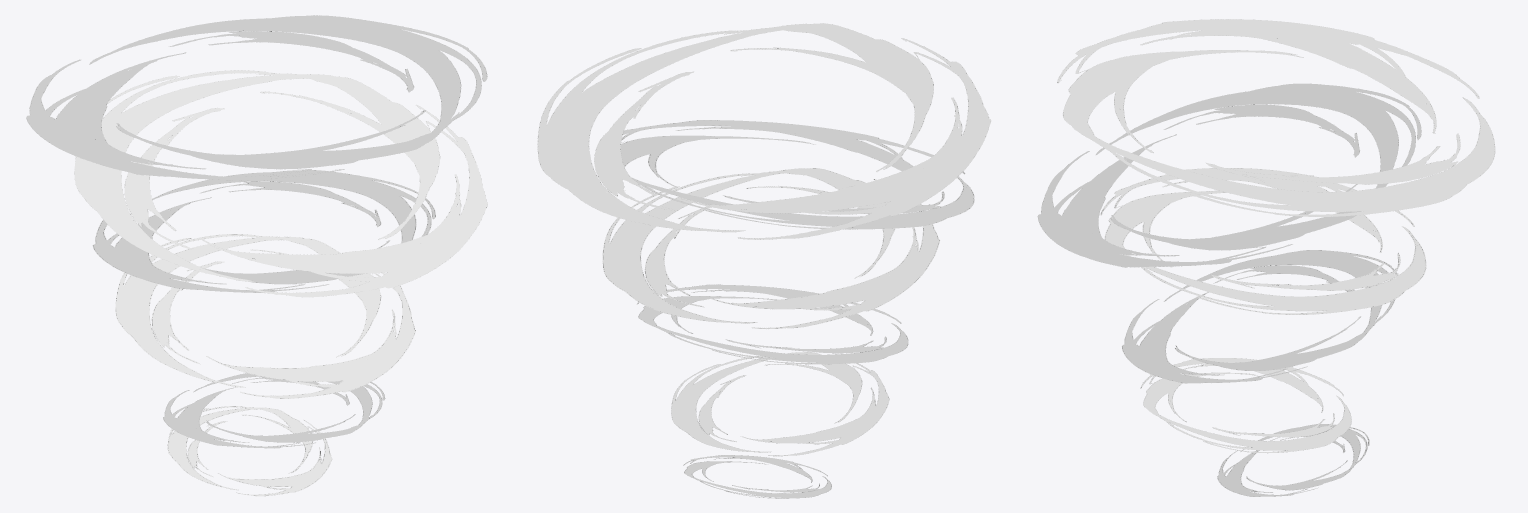
The model's file is 龙卷风.fbx.
3 renders of one model, left to right at view 1: azimuth 30°, elevation 25°; view 2: azimuth 150°, elevation 25°; view 3: azimuth 270°, elevation 25°, orthographic. The views are drawn at different scales.
Visible parts, largest first — view 1: 龙卷风; view 2: 龙卷风; view 3: 龙卷风.
Boxes of the visible parts, left/top/right/bottom form: 龙卷风: left=26, top=15, right=487, bottom=496; 龙卷风: left=537, top=23, right=990, bottom=498; 龙卷风: left=1037, top=19, right=1495, bottom=496.
Size of the model in its own units: 195 by 173 by 200.
